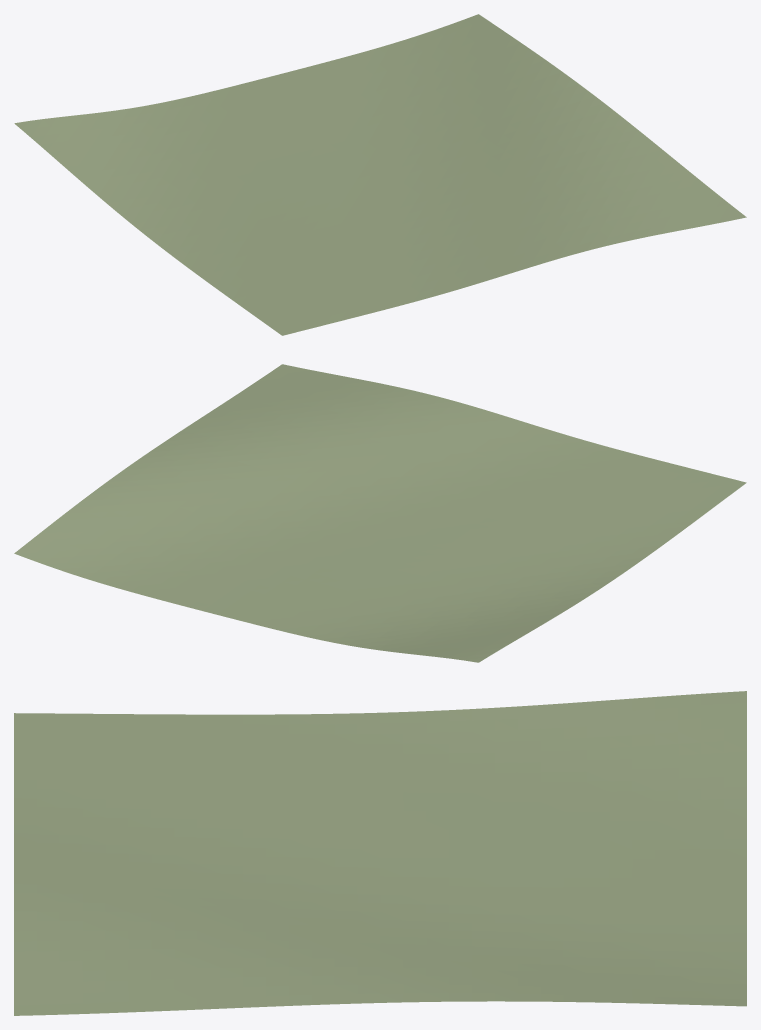
File: desert-9-9.glb
3 renders of one model, top to bottom at view 1: azimuth 30°, elevation 25°; view 2: azimuth 150°, elevation 25°; view 3: azimuth 270°, elevation 25°, orthographic. The views are drawn at different scales.
Parts seen in each view (by area): view 1: desert-9-9; view 2: desert-9-9; view 3: desert-9-9.
Part boxes in pixels (<box>): desert-9-9: <box>14,14,746,335</box>; desert-9-9: <box>14,364,746,662</box>; desert-9-9: <box>14,691,746,1015</box>.
Size of the model in its own units: 512 by 18.61 by 512.
